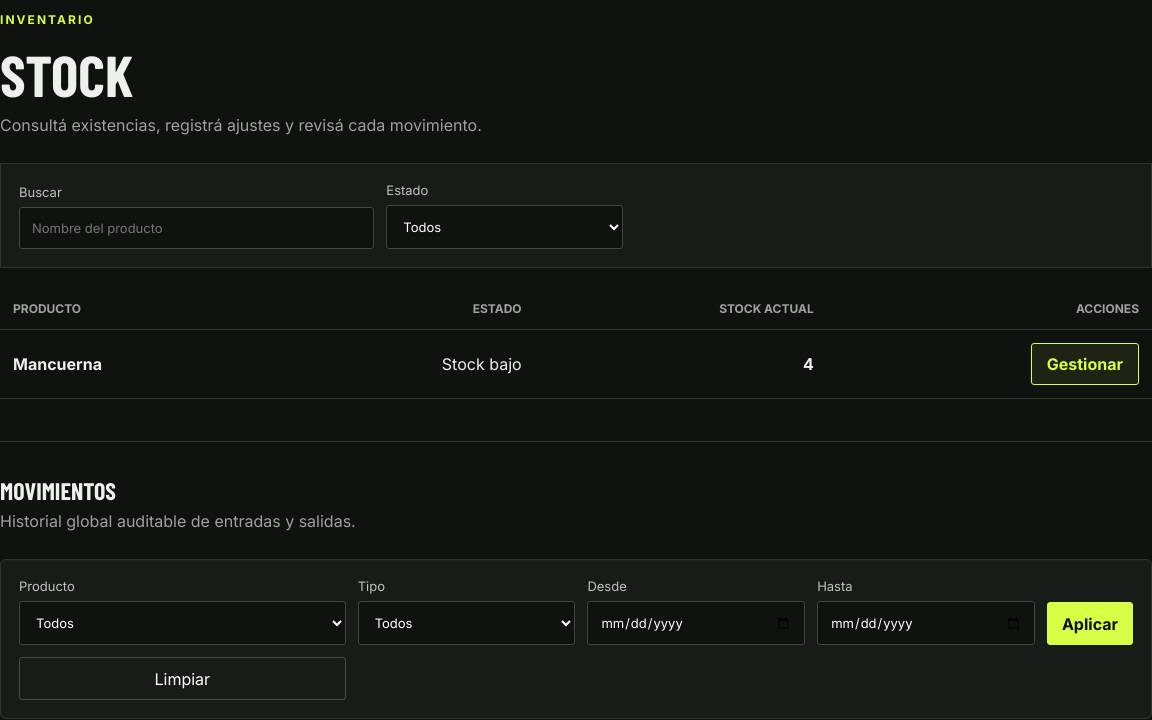
it: StockAdmin › evita doble envío y muestra el error del servidor
The image size is (1152, 720).
Click the button "Gestionar". click: (1085, 364)
box: [1031,343,1139,385]
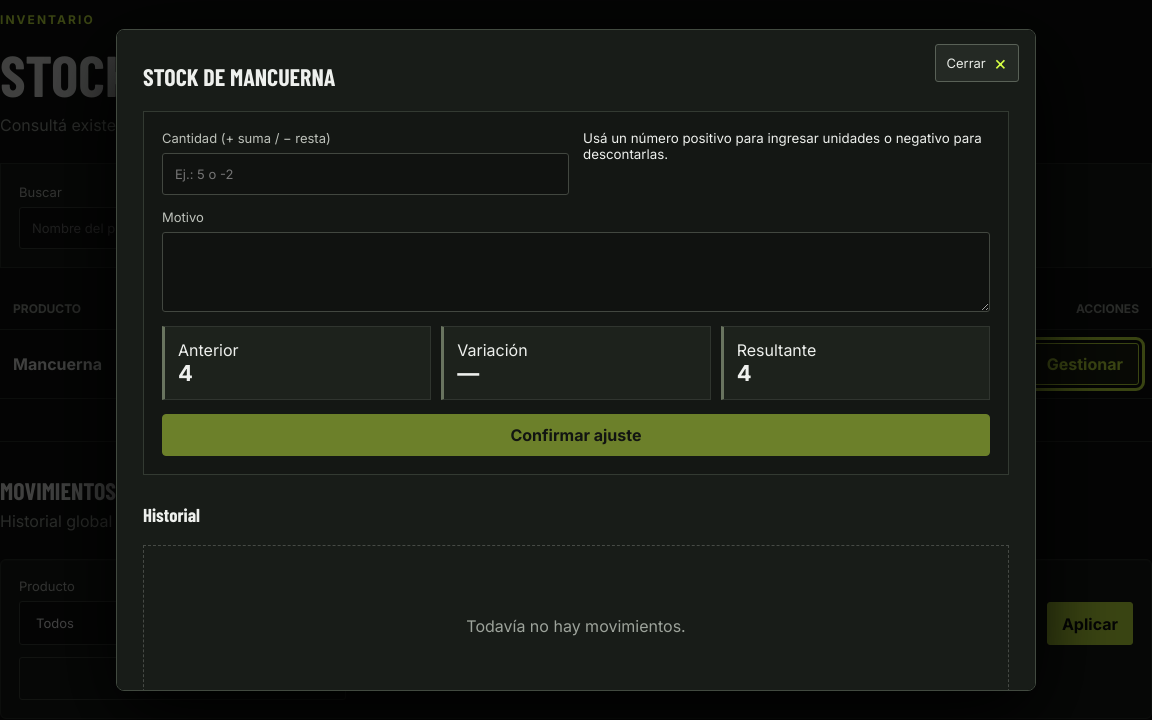
Type "2" into the number field labelled "Cantidad". click: (366, 174)
box: [162,153,569,195]
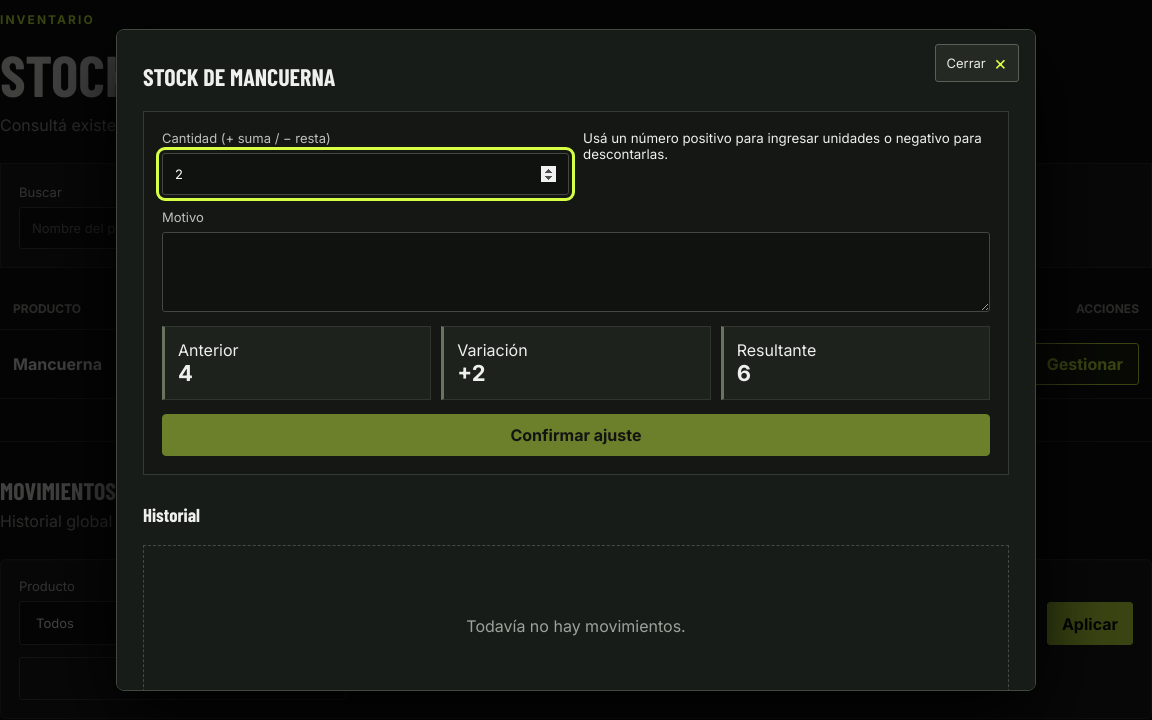
Type "Control" into the text box labelled "Motivo". click: (576, 272)
box: [162,232,990,312]
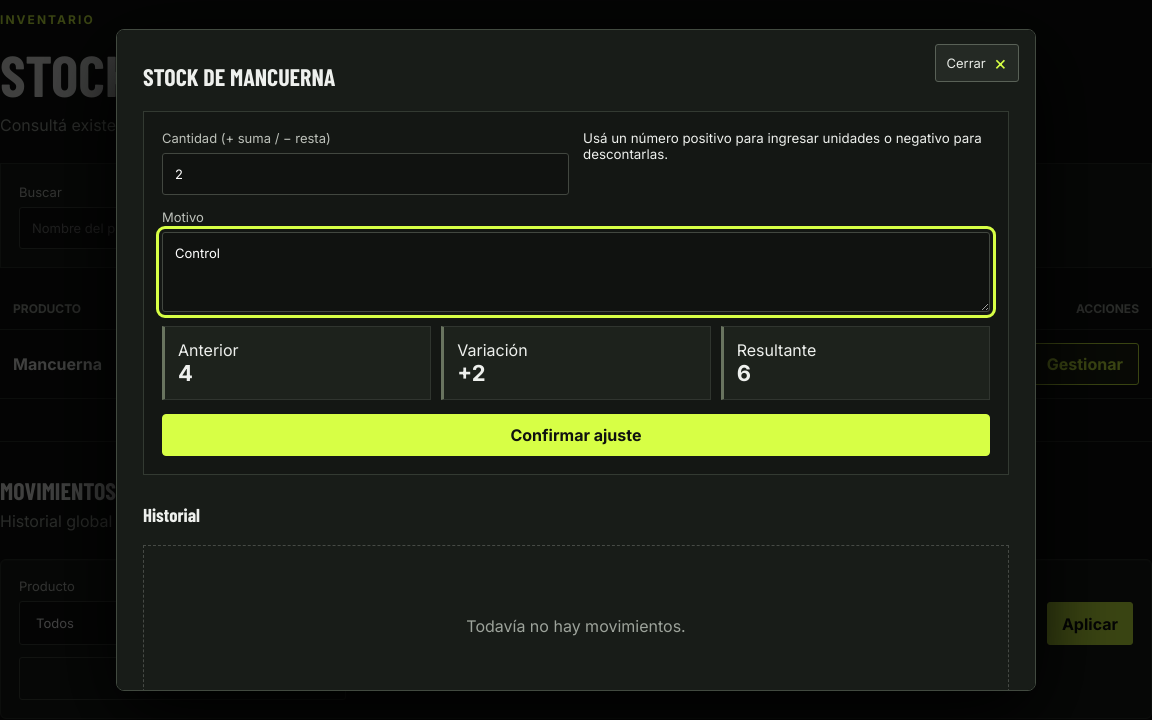
Double-click the button "Confirmar ajuste" at (576, 435), box [162,414,990,456]
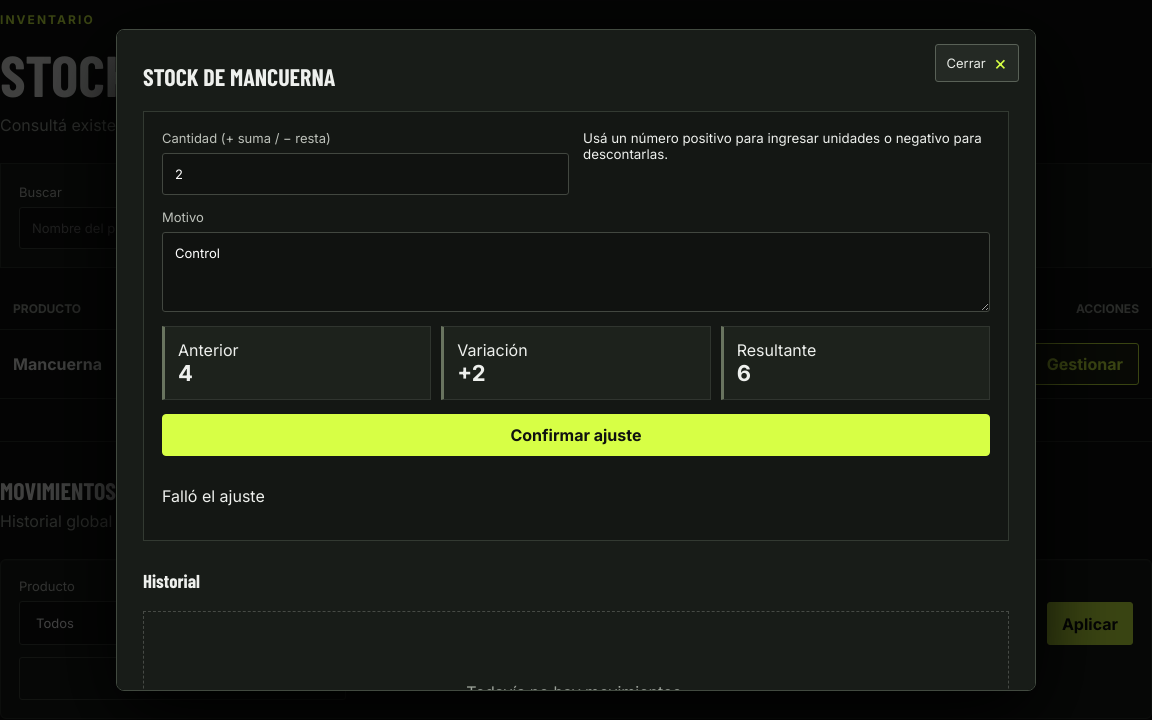
Expected: the button "Confirmar ajuste" is enabled, [162,414,990,456]
Expected: the text "Falló el ajuste" is shown, [162,486,265,506]
